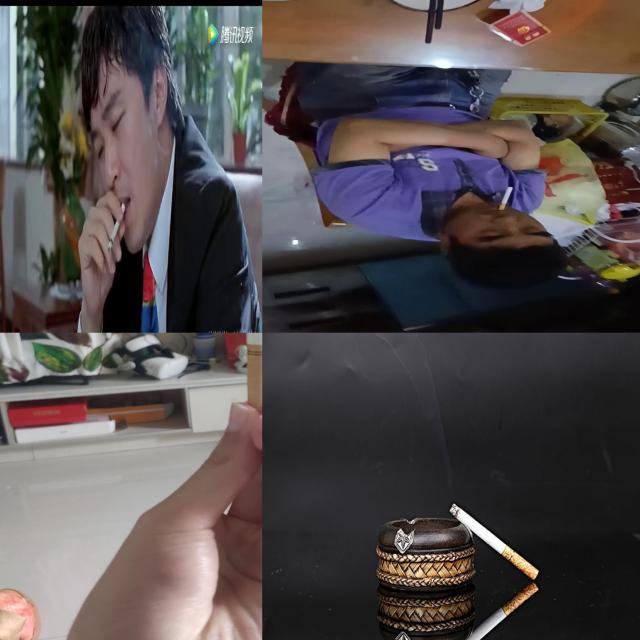smoking: (446, 490, 540, 582), (438, 582, 554, 640), (107, 202, 126, 255), (498, 187, 514, 210)
